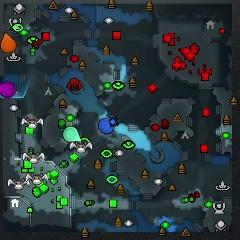p1: (98, 119, 114, 134)
p2: (63, 126, 81, 141)
p3: (0, 82, 16, 98)
p5: (1, 33, 17, 52)
